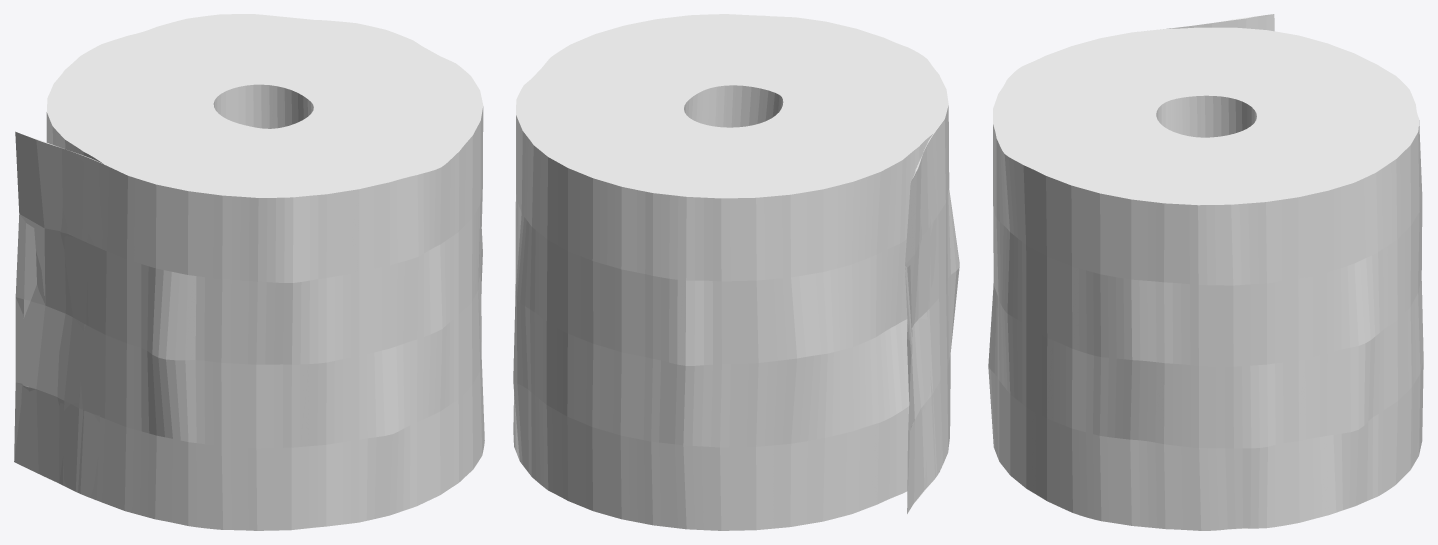
Rendered from toiletpaper.gltf.
3 views of the same model, side by side, from view 1: azimuth 30°, elevation 25°; view 2: azimuth 150°, elevation 25°; view 3: azimuth 270°, elevation 25° (orthographic). The views are drawn at different scales.
Visible parts, largest first — view 1: toilet_paper; view 2: toilet_paper; view 3: toilet_paper.
Part boxes in pixels (x1,y1,x2,y2): toilet_paper: (14,14,484,530); toilet_paper: (513,14,959,530); toilet_paper: (988,14,1423,530).
Size of the model in its own units: 0.1233 by 0.1012 by 0.1181.
Materials: 1 (1 with a texture image).
